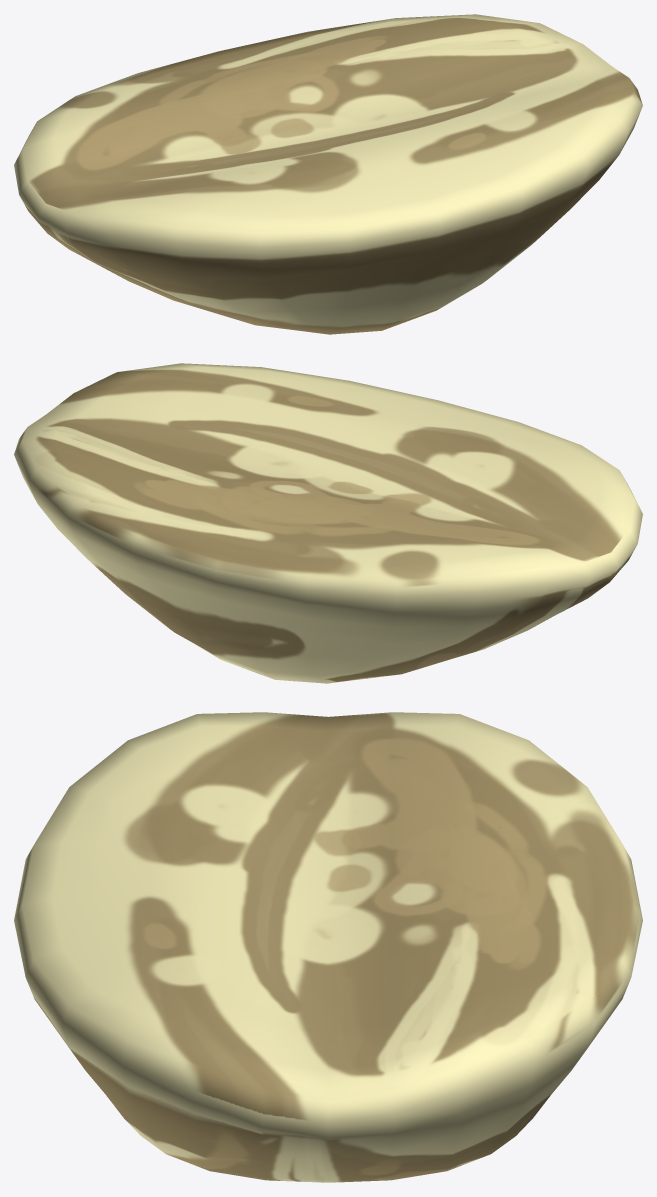
Rendered from sementezinha.fbx.
3 renders of one model, top to bottom at view 1: azimuth 30°, elevation 25°; view 2: azimuth 150°, elevation 25°; view 3: azimuth 270°, elevation 25°, orthographic. The views are drawn at different scales.
Parts seen in each view (by area): view 1: Círculo; view 2: Círculo; view 3: Círculo.
Boxes of the visible parts, box(x1,y1,x2,y2) form: Círculo: box(14, 14, 642, 334); Círculo: box(14, 363, 642, 683); Círculo: box(14, 712, 642, 1182).
Bounding box in the file's own units: 180 × 54.23 × 121.
